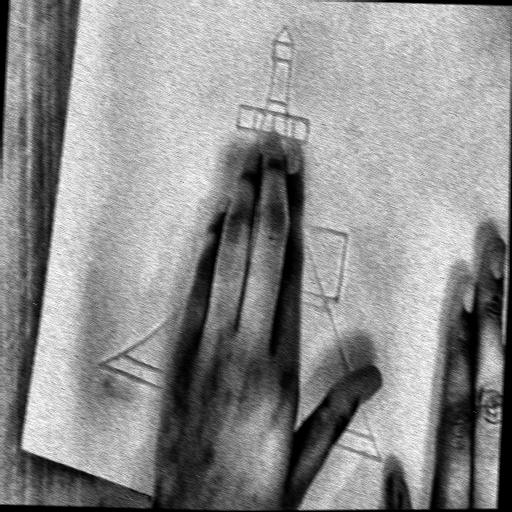eiffel-tower: (80, 0, 449, 470)
